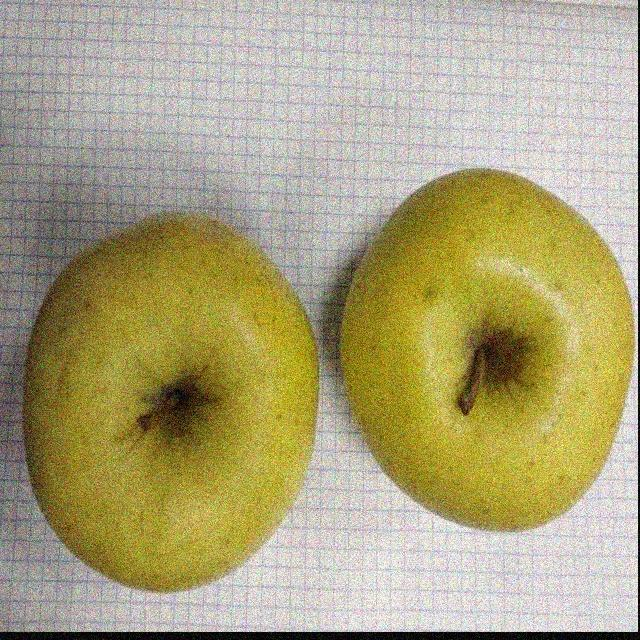green apple: (21, 202, 322, 597), (338, 167, 636, 533)
